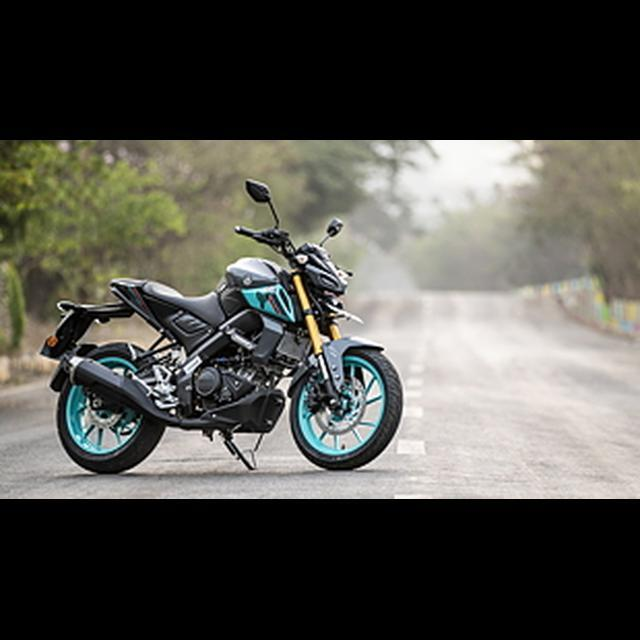motorcycle: (37, 175, 405, 478)
